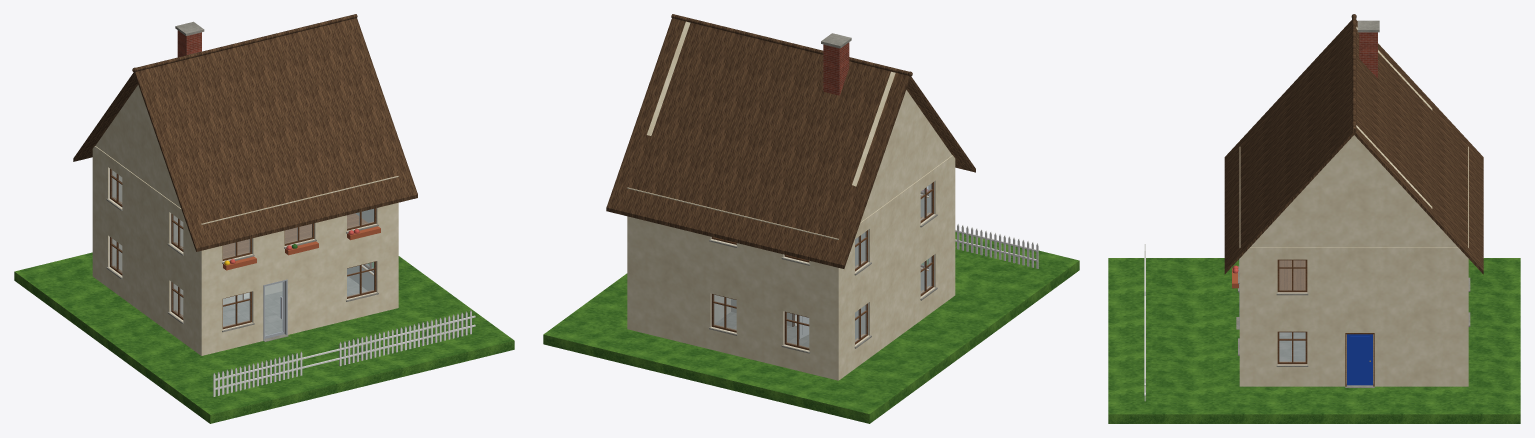
The model's file is b_english_cottage.gltf.
3 views of the same model, side by side, from view 1: azimuth 30°, elevation 25°; view 2: azimuth 150°, elevation 25°; view 3: azimuth 270°, elevation 25° (orthographic). The views are drawn at different scales.
Parts seen in each view (by area): view 1: S_english_cottage, D_english_cottage_F1_S2_Door0; view 2: S_english_cottage; view 3: S_english_cottage, D_english_cottage_F1_E1_Door0.
Part boxes in pixels (bbox=[...]): S_english_cottage: bbox=[14, 14, 514, 423]; D_english_cottage_F1_S2_Door0: bbox=[264, 281, 284, 338]; S_english_cottage: bbox=[543, 14, 1079, 423]; S_english_cottage: bbox=[1108, 14, 1520, 423]; D_english_cottage_F1_E1_Door0: bbox=[1347, 334, 1372, 385].
Bounding box in the file's own units: 14 × 12.32 × 15.6.
Materials: 25 (14 with a texture image).
